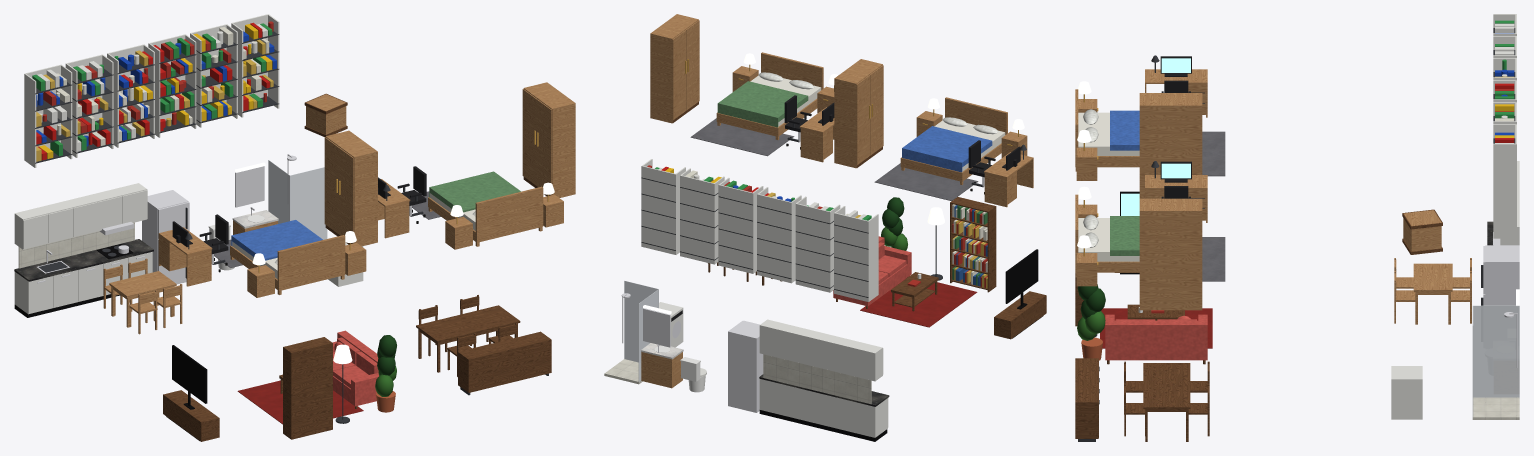
The model's file is i_haunted_house.gltf.
The picture shows the model from 3 angles, left to right: view 1: azimuth 30°, elevation 25°; view 2: azimuth 150°, elevation 25°; view 3: azimuth 270°, elevation 25°; orthographic projection. The views are drawn at different scales.
Parts seen in each view (by area): view 1: I_haunted_house; view 2: I_haunted_house; view 3: I_haunted_house.
Part boxes in pixels (x1,y1,x2,y2): I_haunted_house: (14, 14, 575, 441); I_haunted_house: (604, 14, 1046, 441); I_haunted_house: (1075, 14, 1519, 441).
Size of the model in its own units: 9.36 by 5.5 by 8.52.
37 materials, 12 textured.
